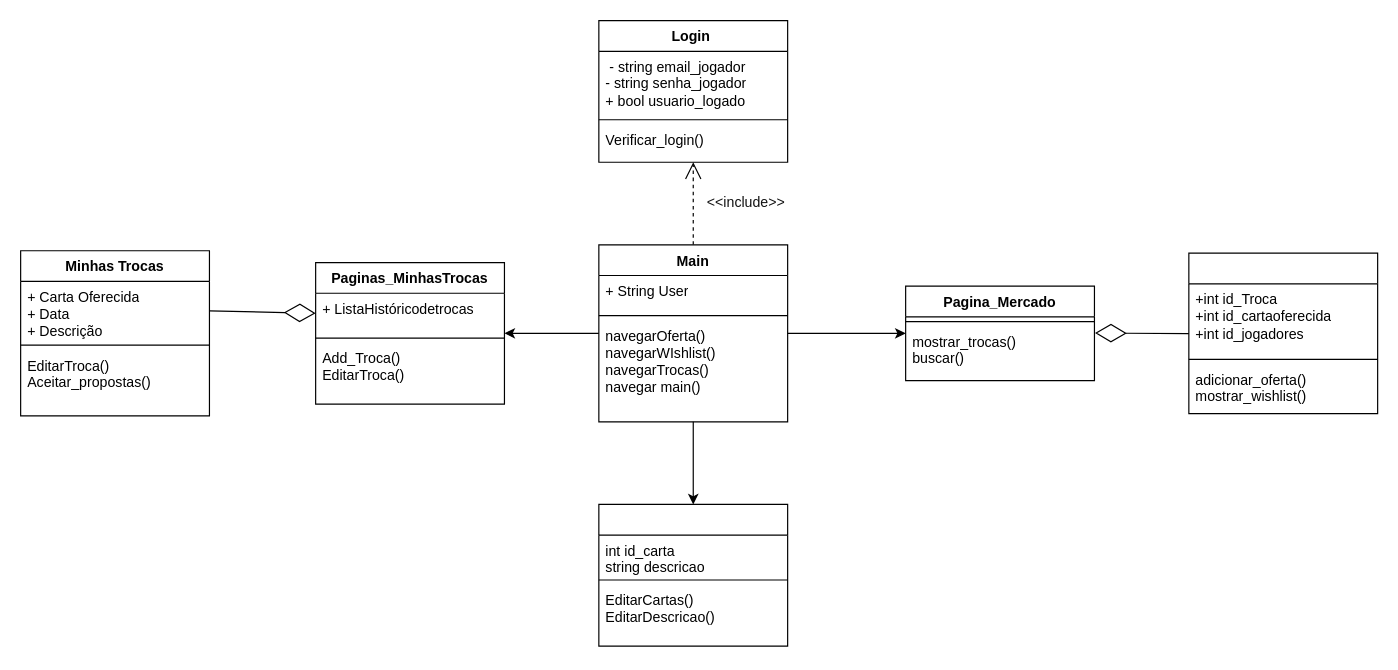
This 1398x670 diagram has some shape labels left out. The shapes that lost their labels are listed below. From the top down, each one's box as (x1, y1, x2, y2) in pixels, then its label:
(1188, 252, 1378, 414): Trocas_Mercado
(598, 503, 788, 646): Pagina_Wishlist
